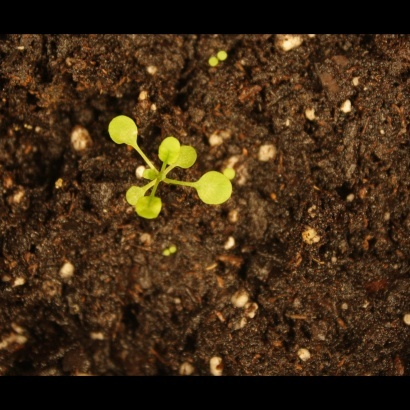leaf: (105, 112, 146, 154), (196, 166, 236, 209), (176, 143, 205, 173), (135, 193, 163, 224), (156, 135, 181, 169), (124, 186, 147, 212), (196, 55, 219, 78), (218, 46, 241, 69), (138, 163, 161, 186)
